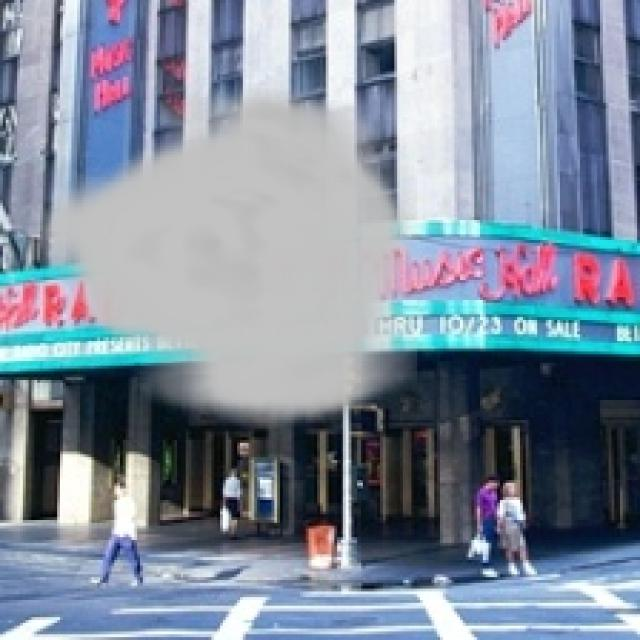smoke: (32, 77, 417, 429)
